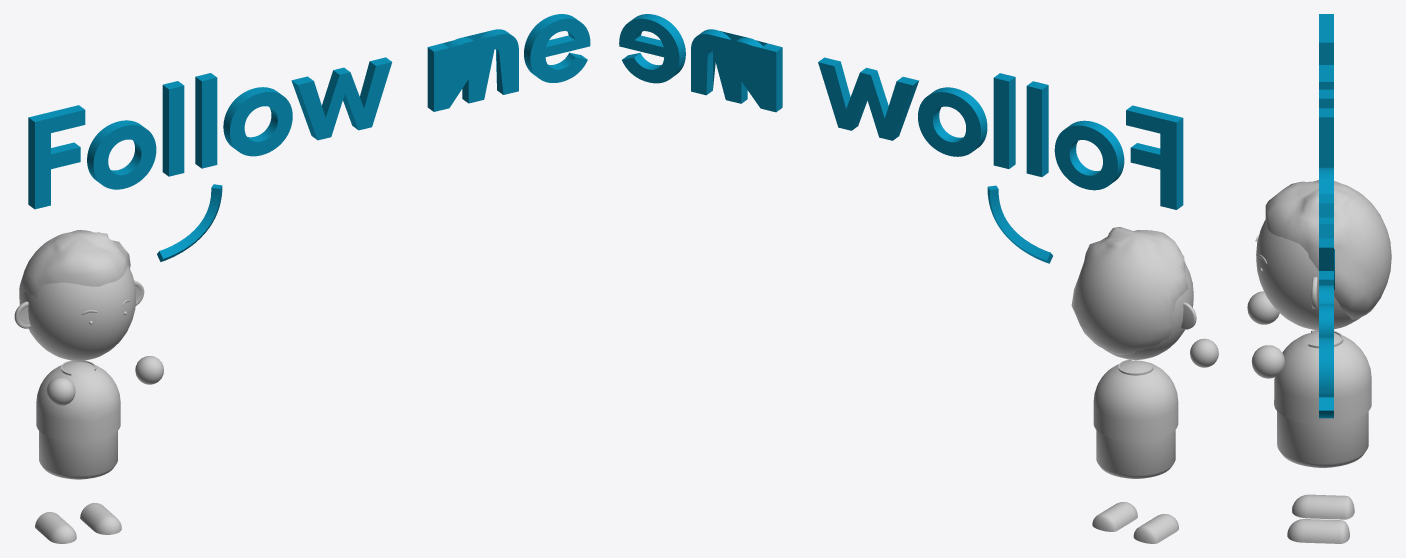
The model's file is FollowGuy.obj.
3 renders of one model, left to right at view 1: azimuth 30°, elevation 25°; view 2: azimuth 150°, elevation 25°; view 3: azimuth 270°, elevation 25°, orthographic. The views are drawn at different scales.
Parts seen in each view (by area): view 1: FOllow_me; view 2: FOllow_me; view 3: FOllow_me.
Part boxes in pixels (<box>): FOllow_me: <box>14,14,590,543</box>; FOllow_me: <box>619,14,1218,543</box>; FOllow_me: <box>1247,14,1391,543</box>.
Size of the model in its own units: 1028 by 718 by 194.
